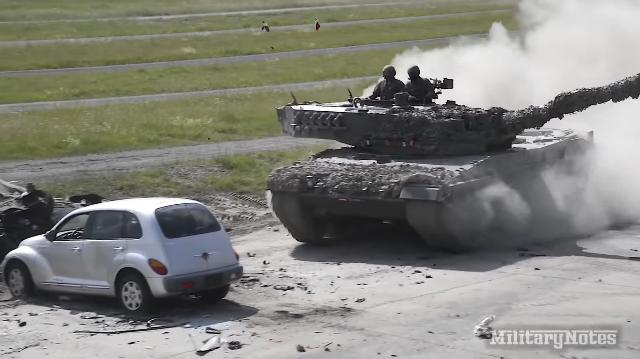other: (397, 65, 429, 99), (373, 65, 403, 94)
tank: (290, 106, 588, 235)
